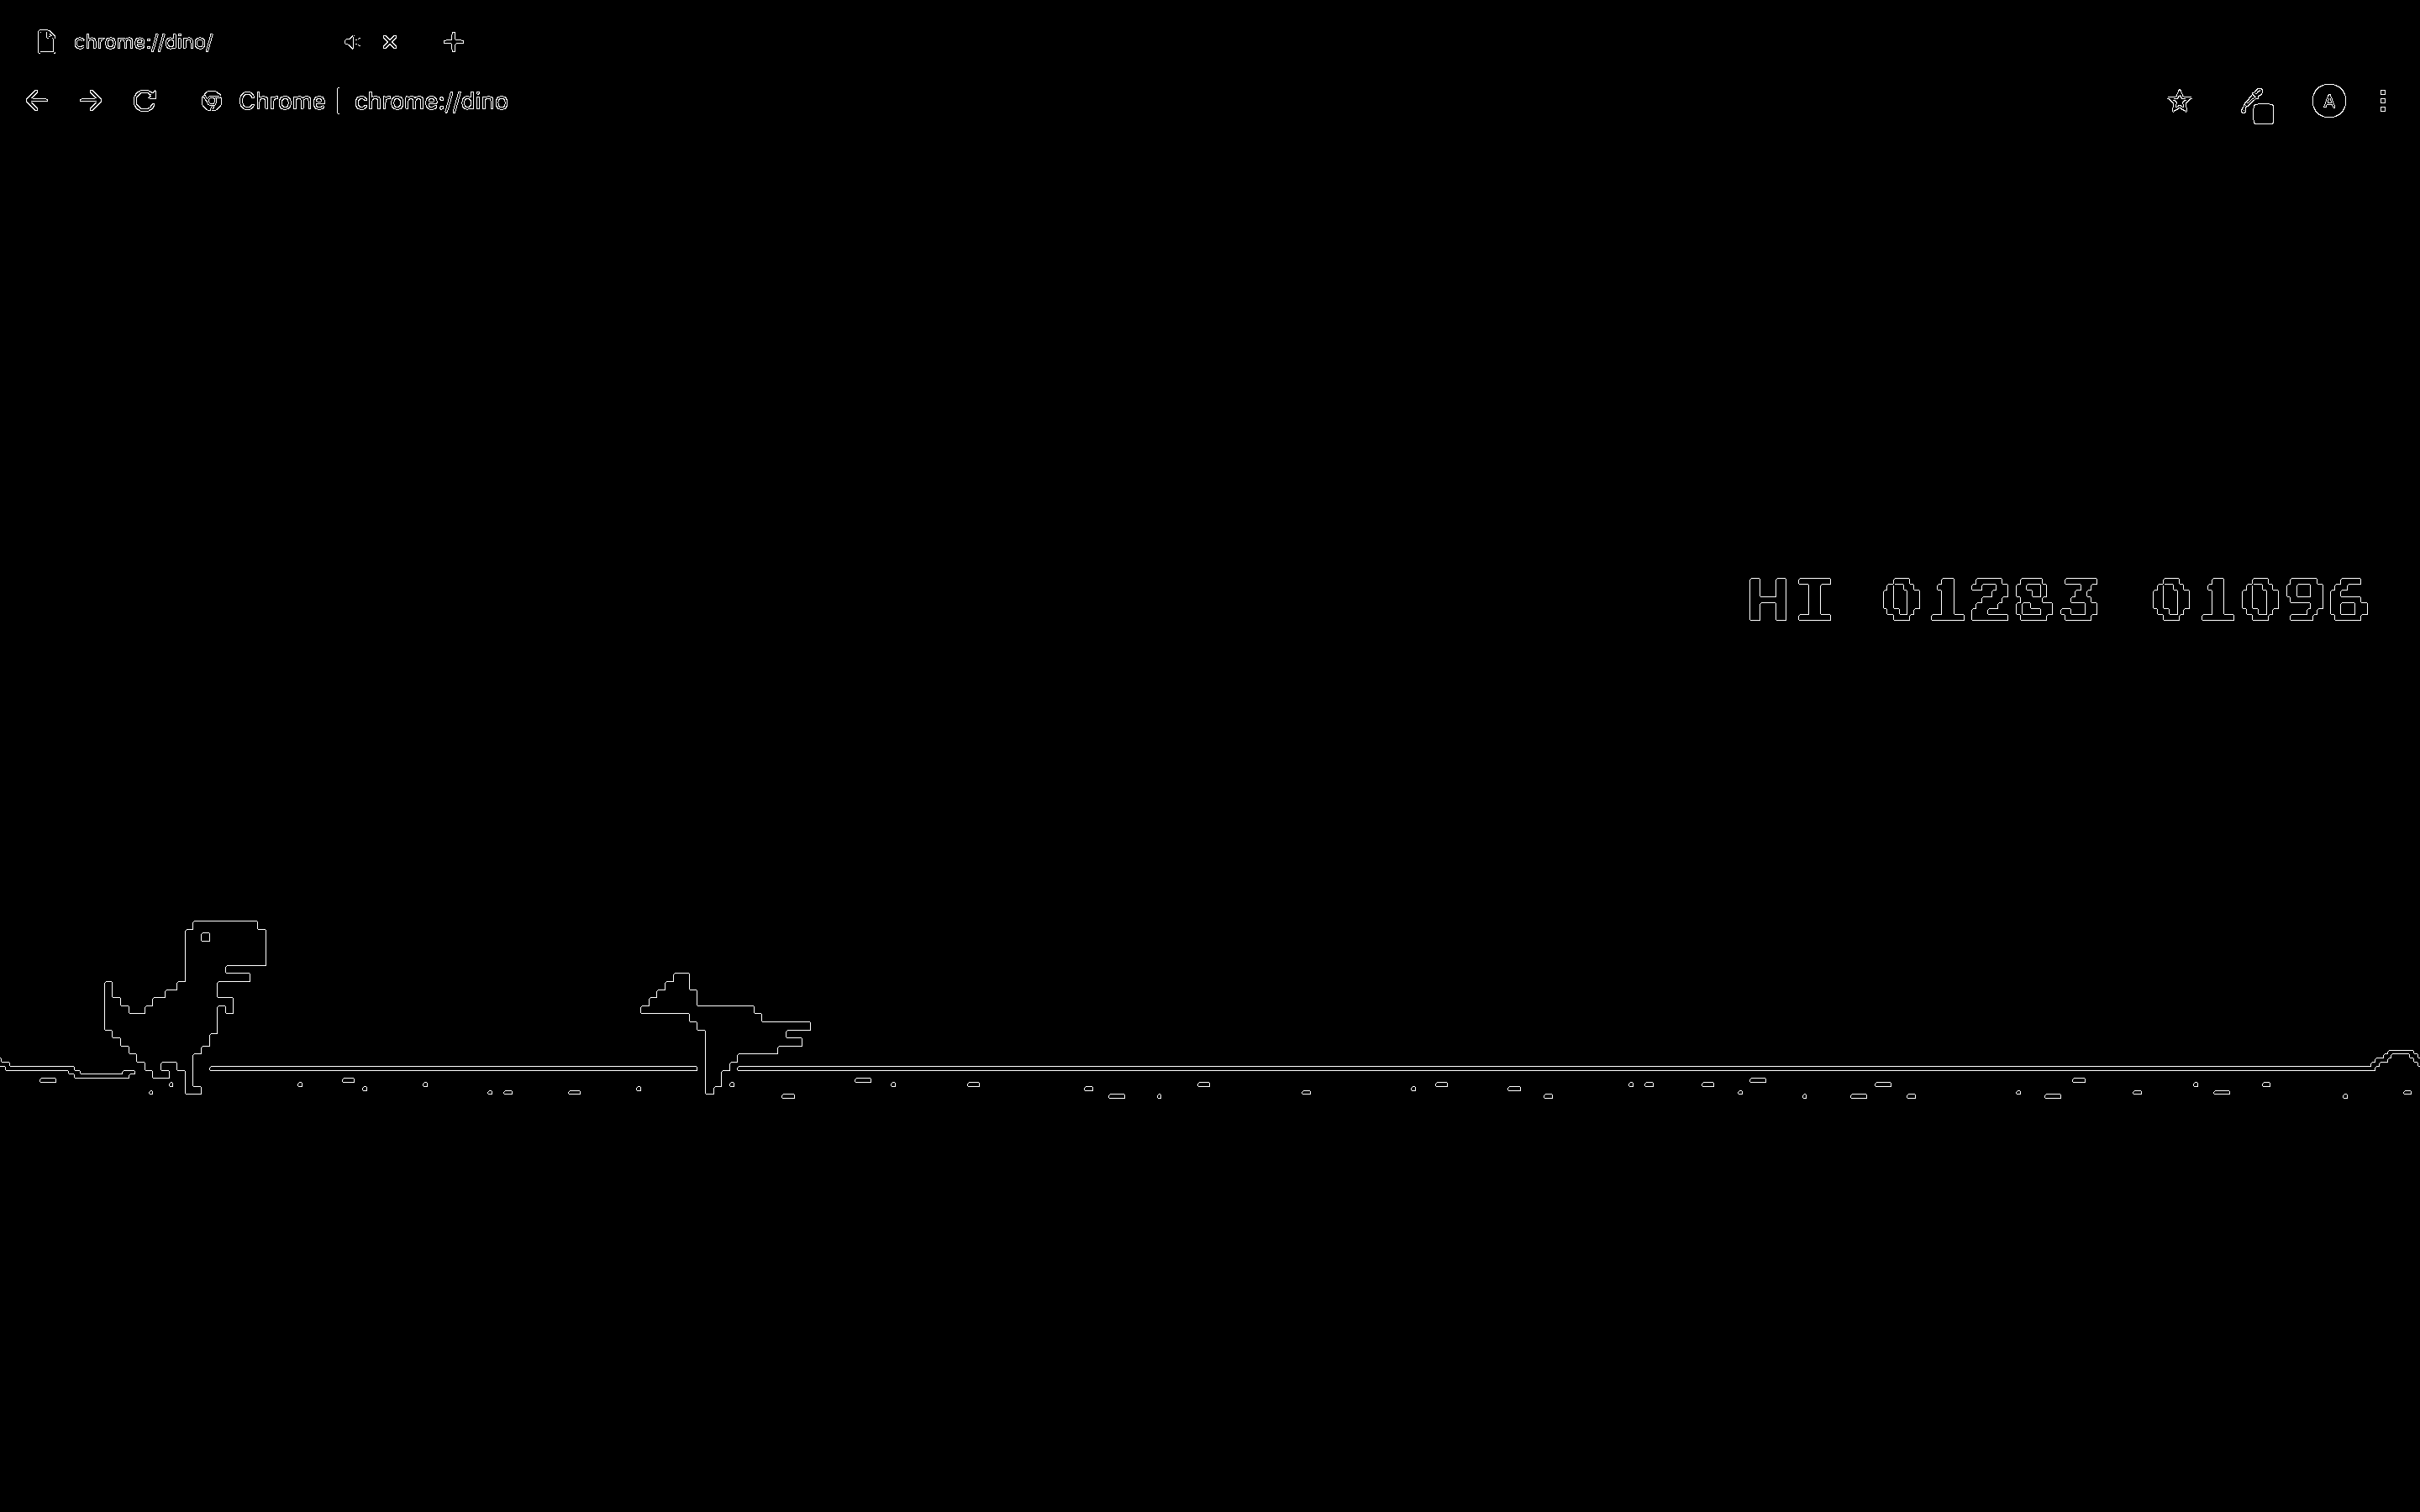Bird: (641, 969, 815, 1090)
Dino: (96, 918, 277, 1090)
